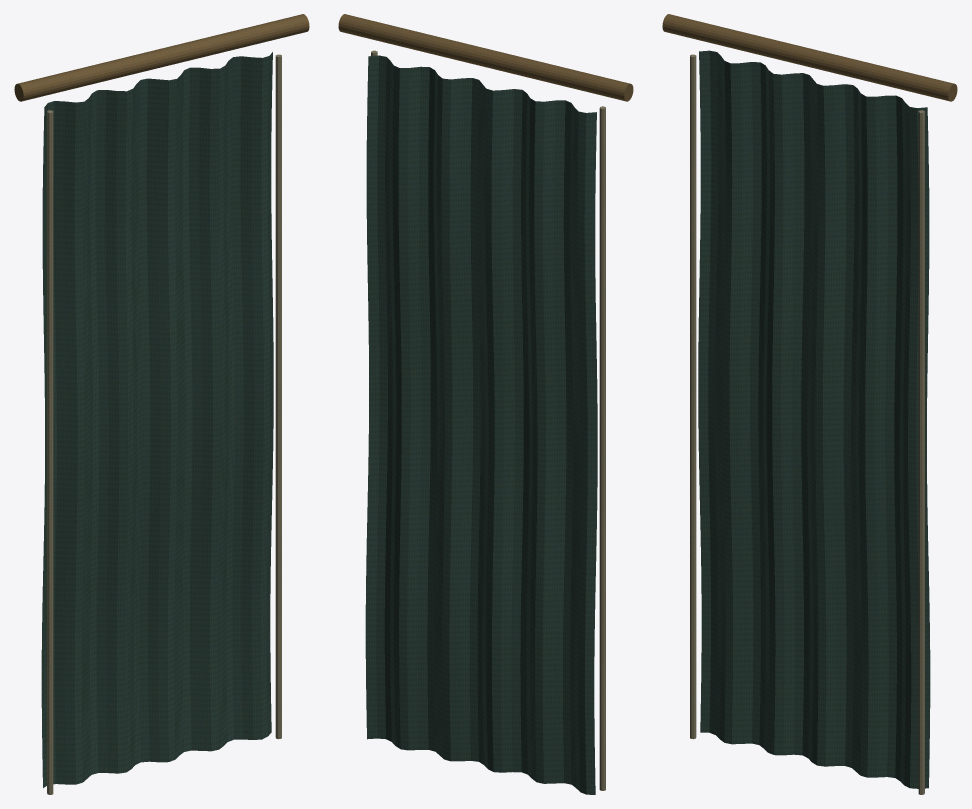
Rendered from furn_com_tapestry_02.dae.
3 renders of one model, left to right at view 1: azimuth 30°, elevation 25°; view 2: azimuth 150°, elevation 25°; view 3: azimuth 330°, elevation 25°, orthographic.
Parts seen in each view (by area): view 1: sage, linen, bronze; view 2: sage, bronze, linen; view 3: sage, linen, bronze.
Boxes of the visible parts, x1=… form: sage: x1=41, y1=52, x2=273, y2=787; linen: x1=47, y1=54, x2=281, y2=794; bronze: x1=14, y1=14, x2=309, y2=101; sage: x1=365, y1=55, x2=597, y2=794; bronze: x1=338, y1=14, x2=633, y2=101; linen: x1=371, y1=50, x2=605, y2=790; sage: x1=698, y1=50, x2=930, y2=788; linen: x1=690, y1=54, x2=924, y2=794; bronze: x1=662, y1=14, x2=957, y2=101.
Bounding box in the file's own units: 50 × 4.1 × 119.
